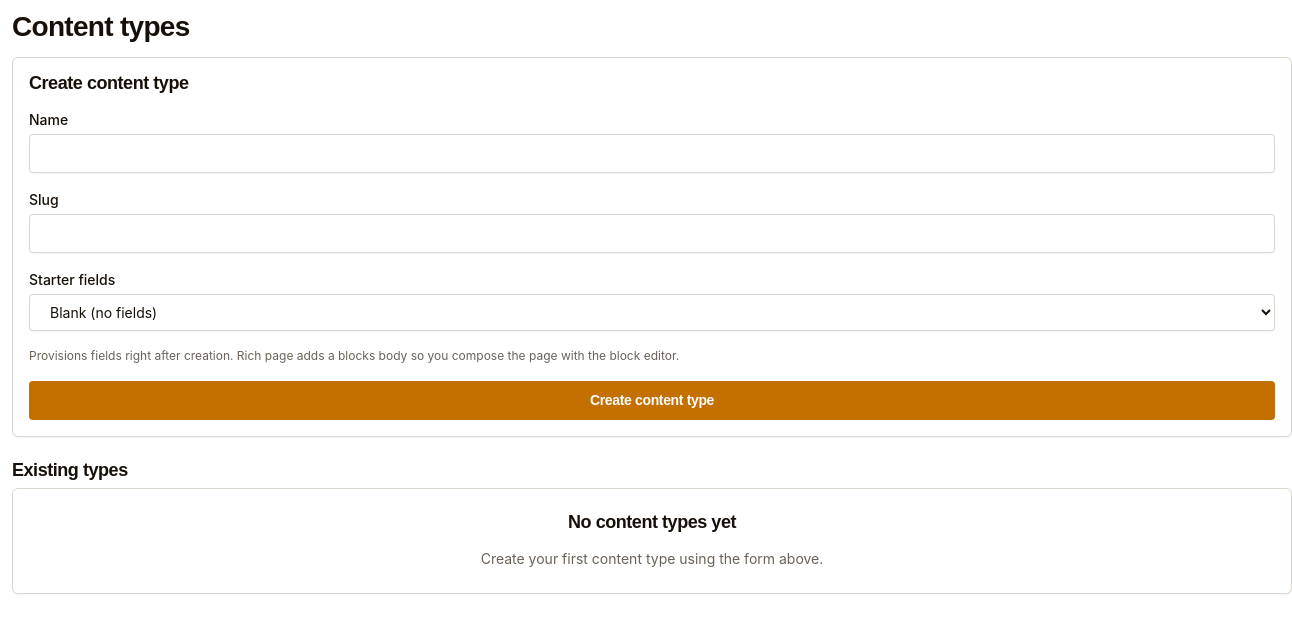
Test case: EntityTypesPage › shows validation errors for invalid slug
Type "Bad Slug" into the field labelled "Name". click: (652, 154)
box: [29,134,1275,173]
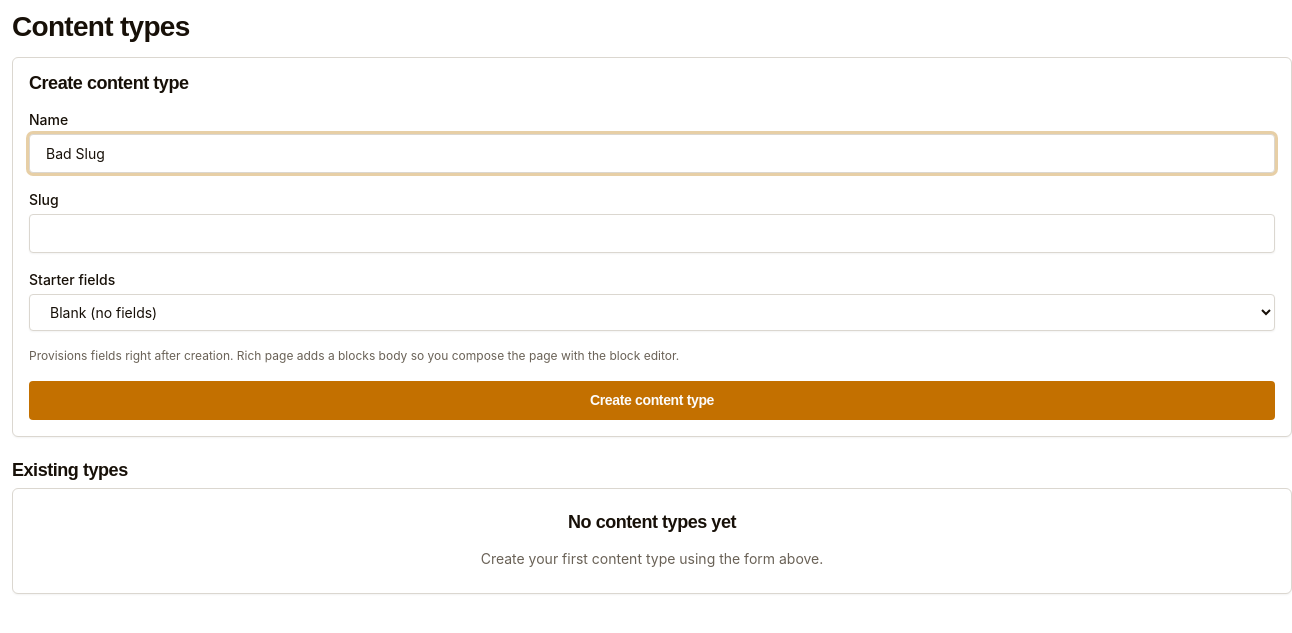
Type "Bad Slug" into the field labelled "Slug". click: (652, 234)
box: [29,214,1275,253]
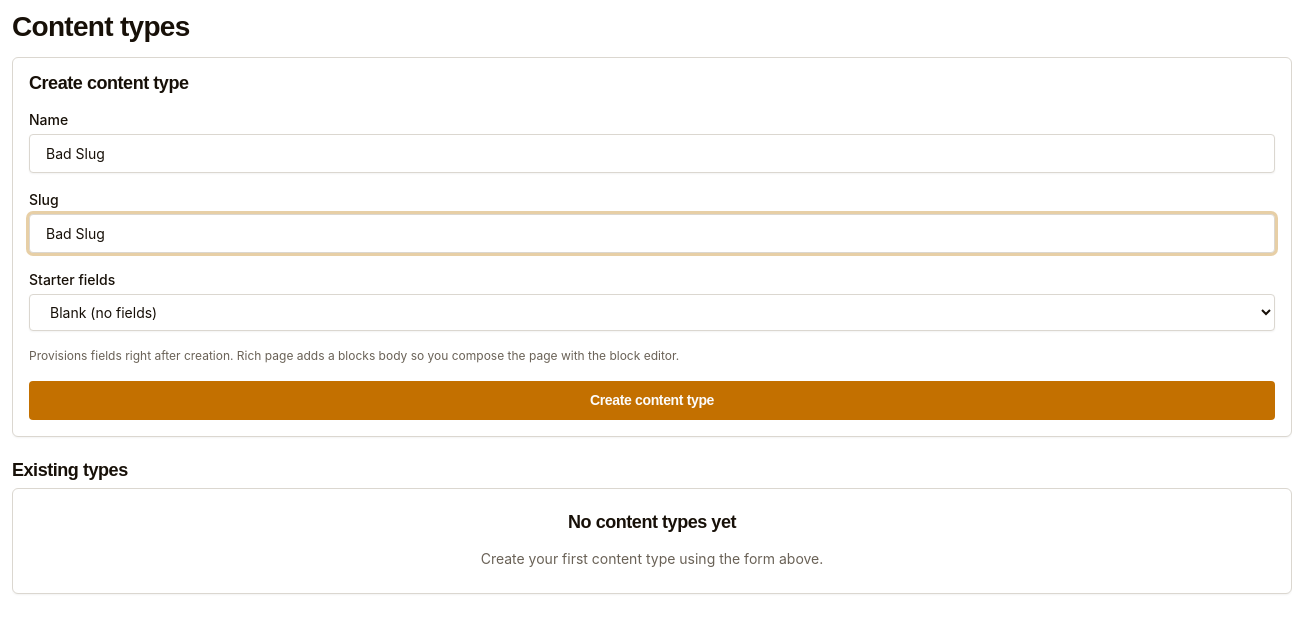
Click the button "Create content type". click: (652, 401)
box: [29,381,1275,420]
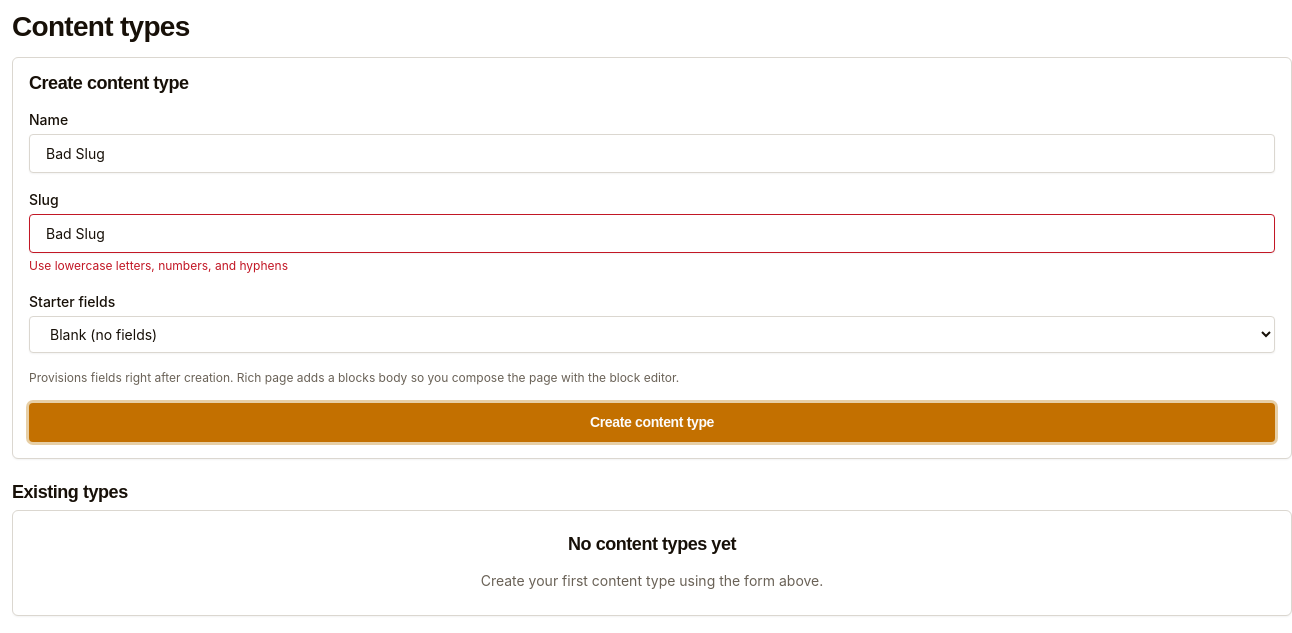
Expected: the text "Use lowercase letters, numbers, and hyphens" is shown, [29,258,288,273]
